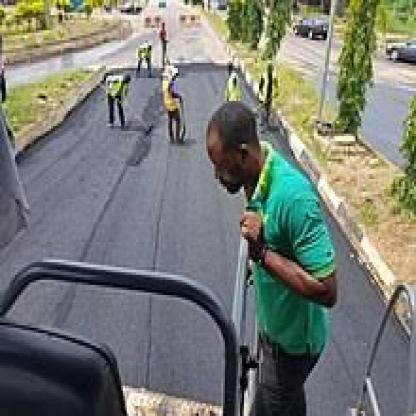car: (288, 8, 341, 52), (384, 22, 416, 75)
